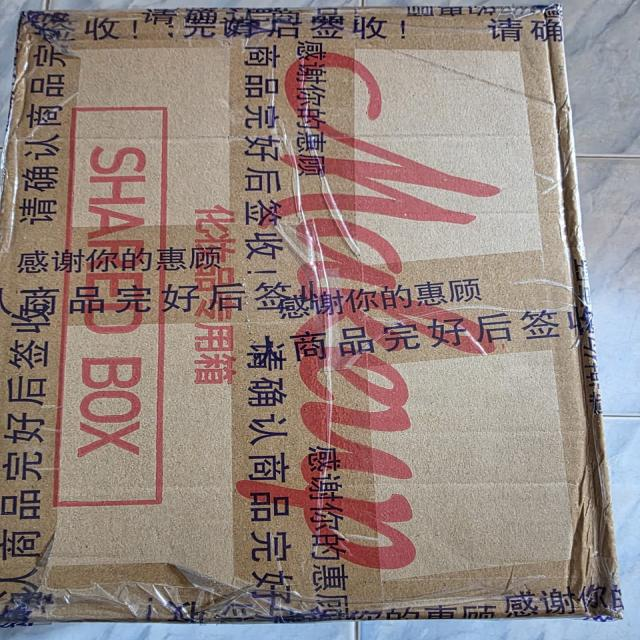carton_box: (8, 8, 627, 634)
